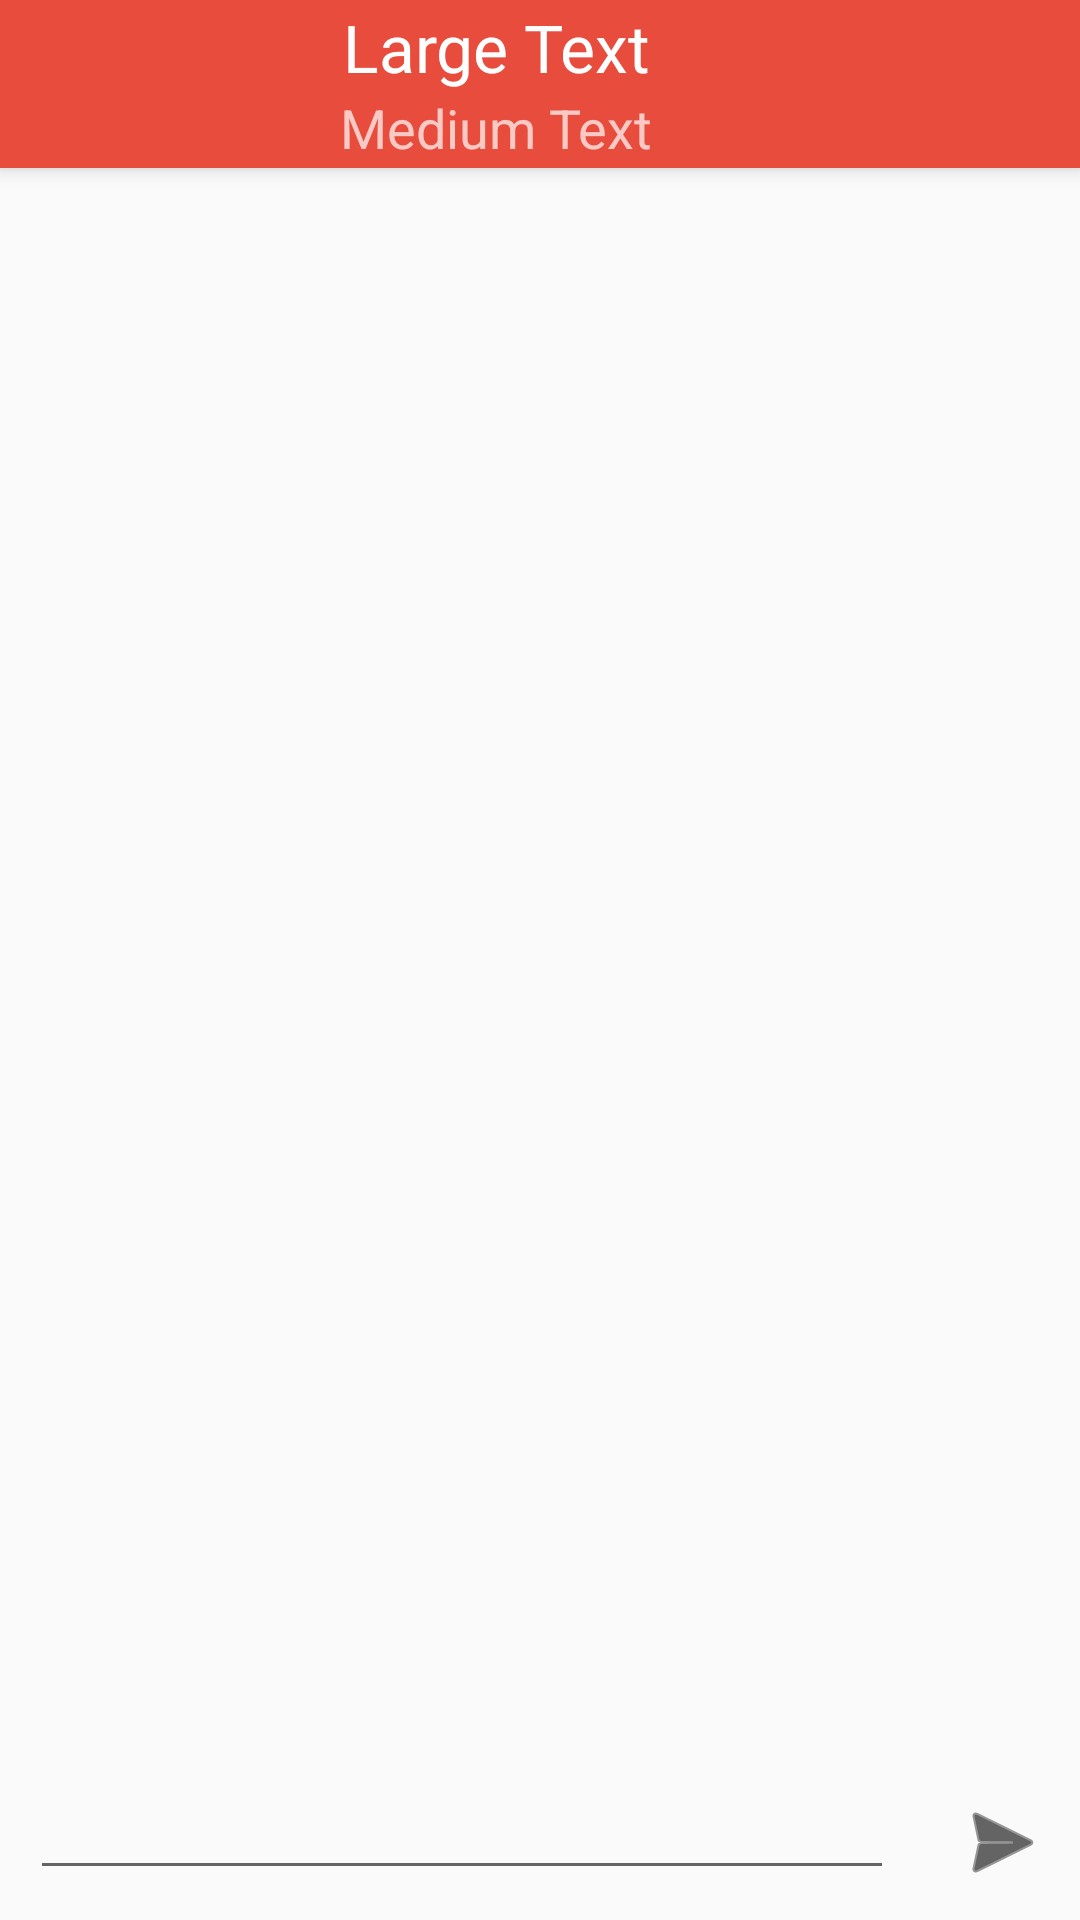

Screen size 1080w x 1920h. Icon name, then its center in pixels as (x=x, y=y):
send: (x=1003, y=1842)
